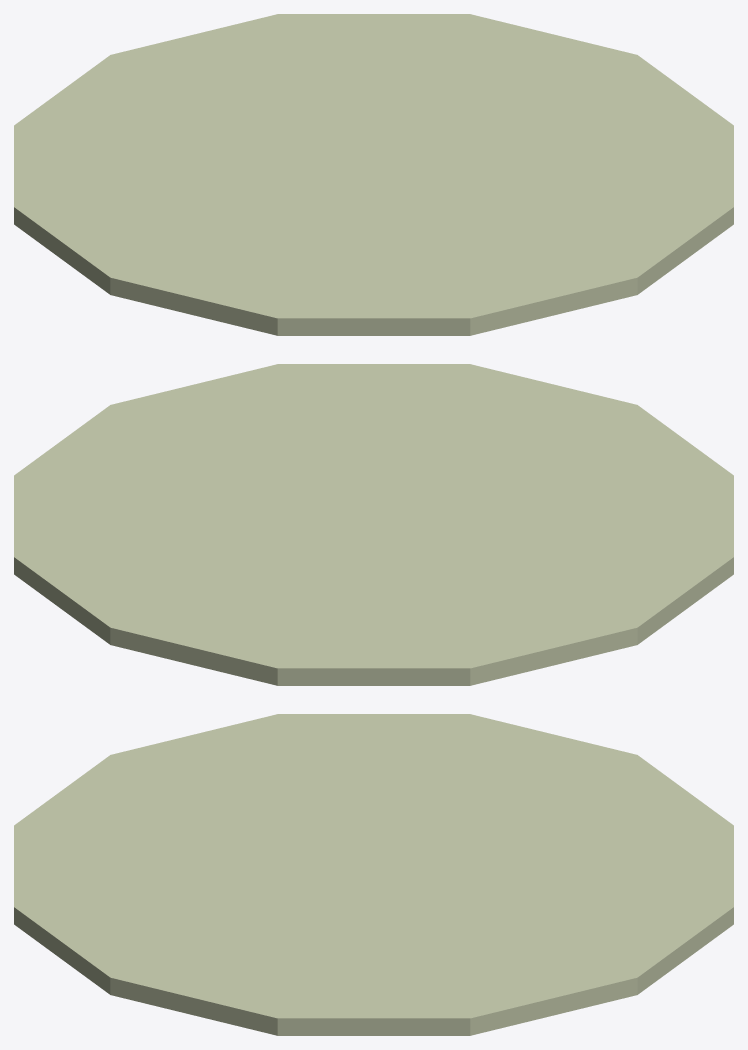
File: 4mv_vl_avionics_s0p5_1_collider.obj
The picture shows the model from 3 angles, top to bottom: view 1: azimuth 30°, elevation 25°; view 2: azimuth 150°, elevation 25°; view 3: azimuth 270°, elevation 25°; orthographic projection.
Parts seen in each view (by area): view 1: collider; view 2: collider; view 3: collider.
Part boxes in pixels (left/top/right/bottom): collider: left=14, top=14, right=733, bottom=335; collider: left=14, top=364, right=733, bottom=685; collider: left=14, top=714, right=733, bottom=1035.
Size of the model in its own units: 0.9375 by 0.0875 by 0.9375.
